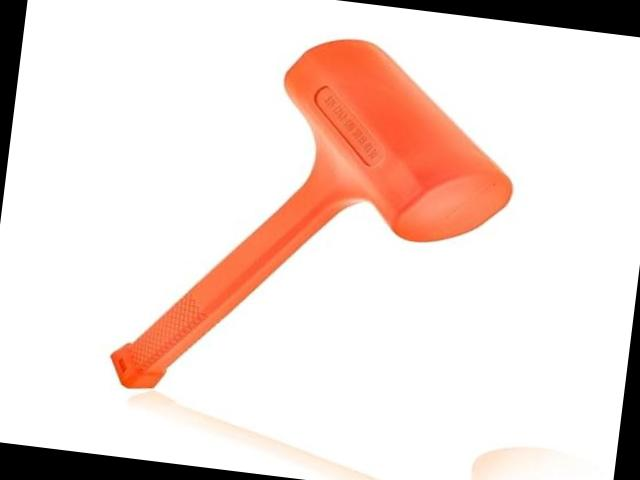hammer: (105, 14, 530, 433)
